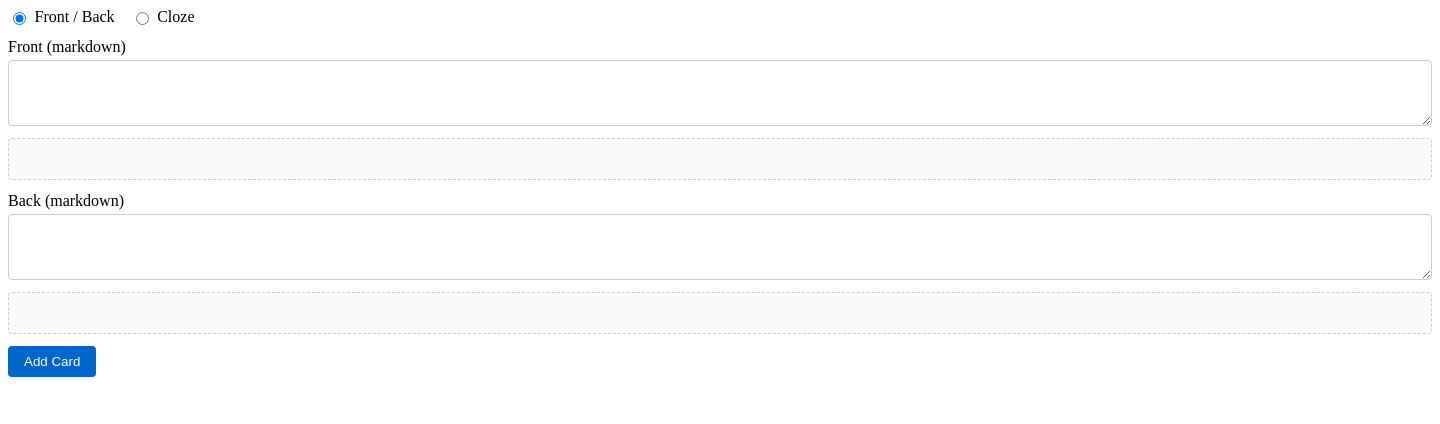
CardEditor › blocks submission when front content is empty
Click the button "Add Card": (52, 362) [8, 346, 96, 377]
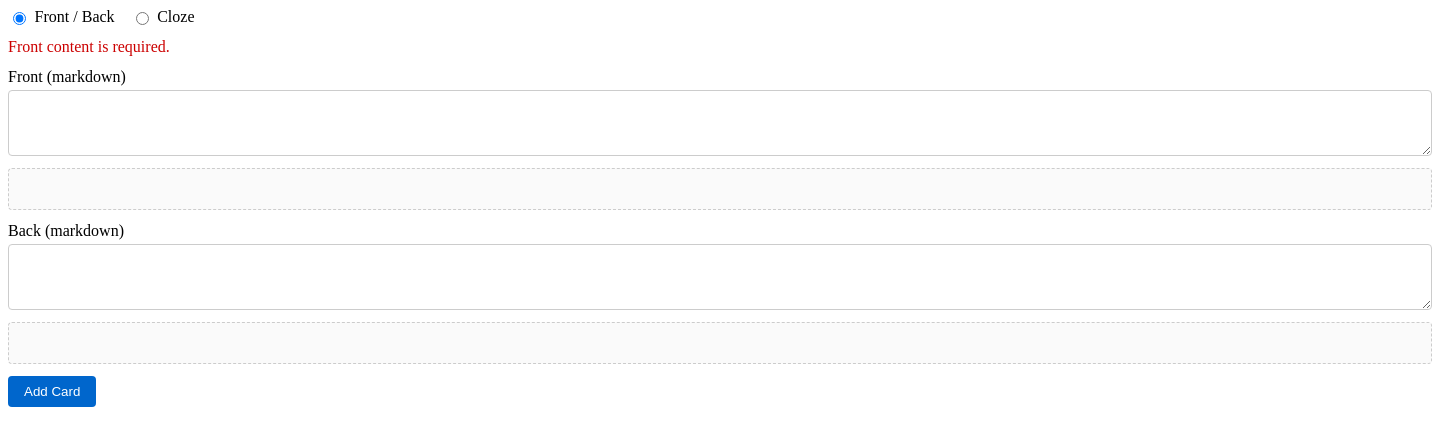
expect the text "Front content is required." is shown: met, box [8, 38, 170, 55]
